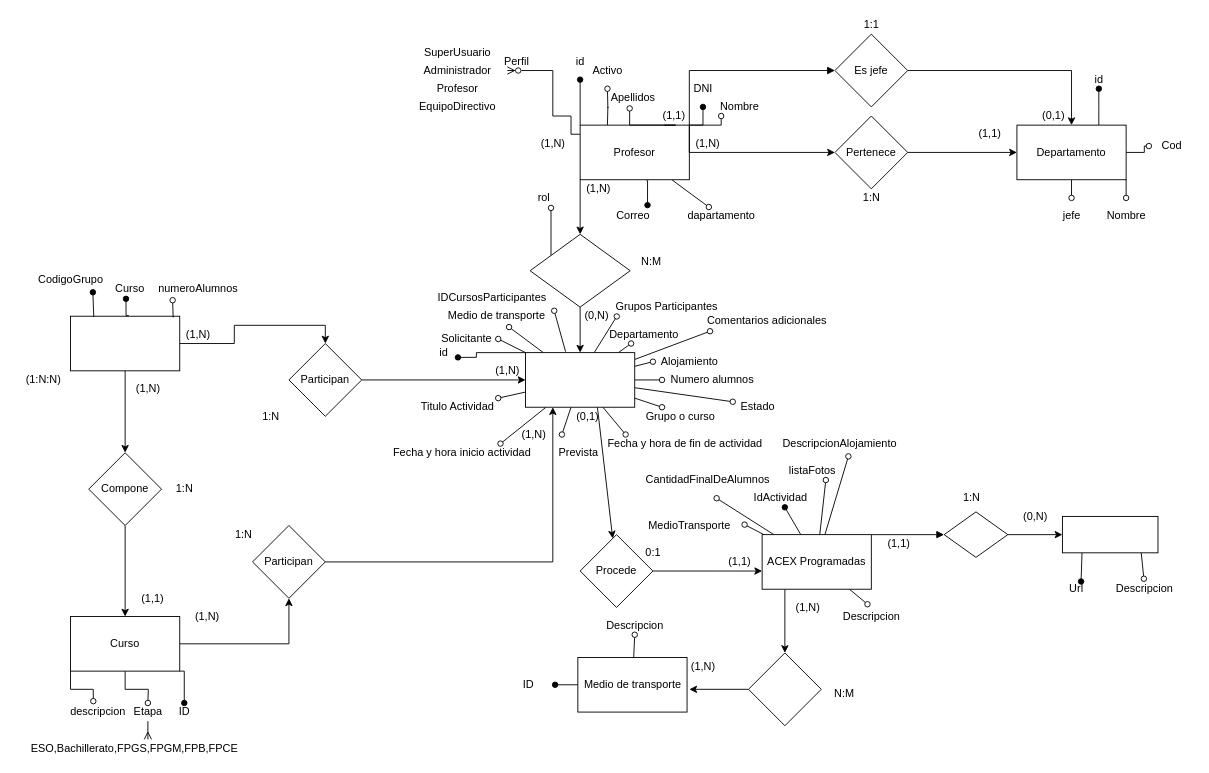
Image size: 1209x773. Some labels were removed from this diagram. The centre of each missing label's shape, as x and y in pixels:
Fotos: (x=1110, y=534)
Grupo: (x=125, y=343)
Participa: (x=579, y=270)
Solicitud: (x=580, y=379)
Tiene: (x=975, y=534)
Usa: (x=784, y=689)
